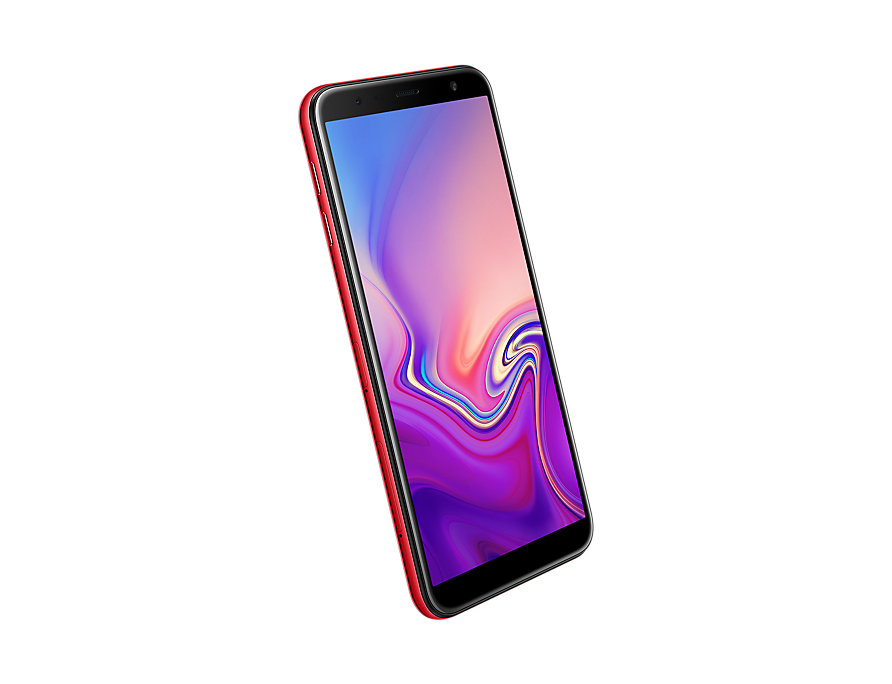Handphone: (291, 59, 598, 629)
